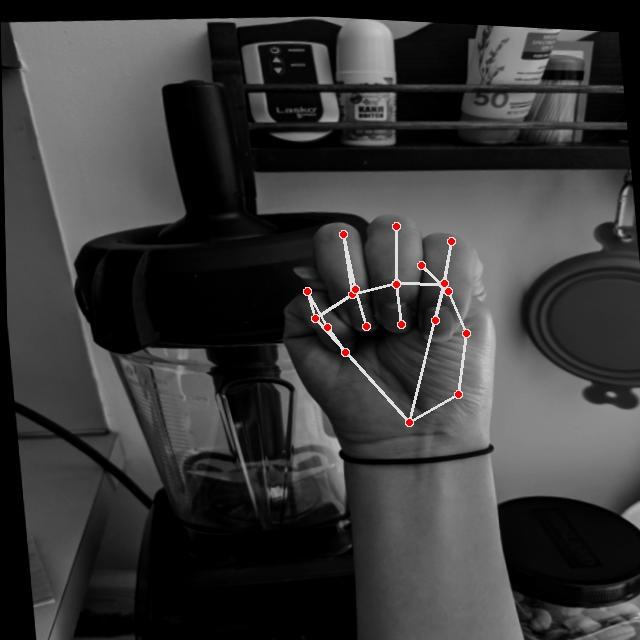M: (259, 190, 517, 457)
